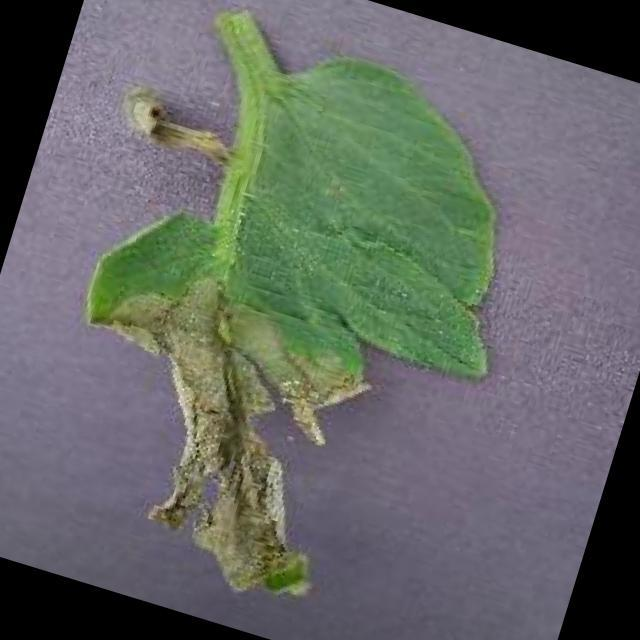Tomato late blight leaf: (0, 0, 570, 640)
